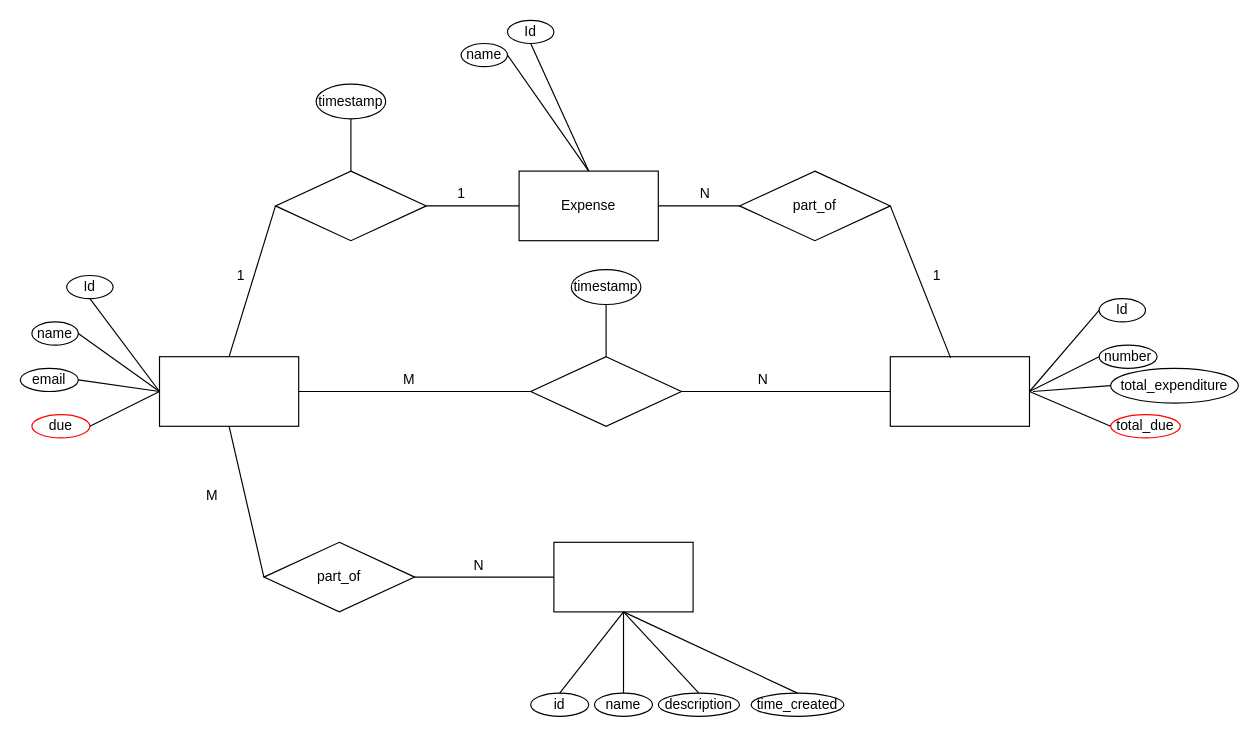
The diagram is 1259 pixels wide and 737 high, and some of its shapes have lost their labels. The shapes that lost their labels are listed below. From the top down, each one's centre as x and y in pixels, then its label:
At (350,205): "pays_for".
At (228,391): "User".
At (606,391): "transacts".
At (959,391): "Bill".
At (623,576): "Group".
